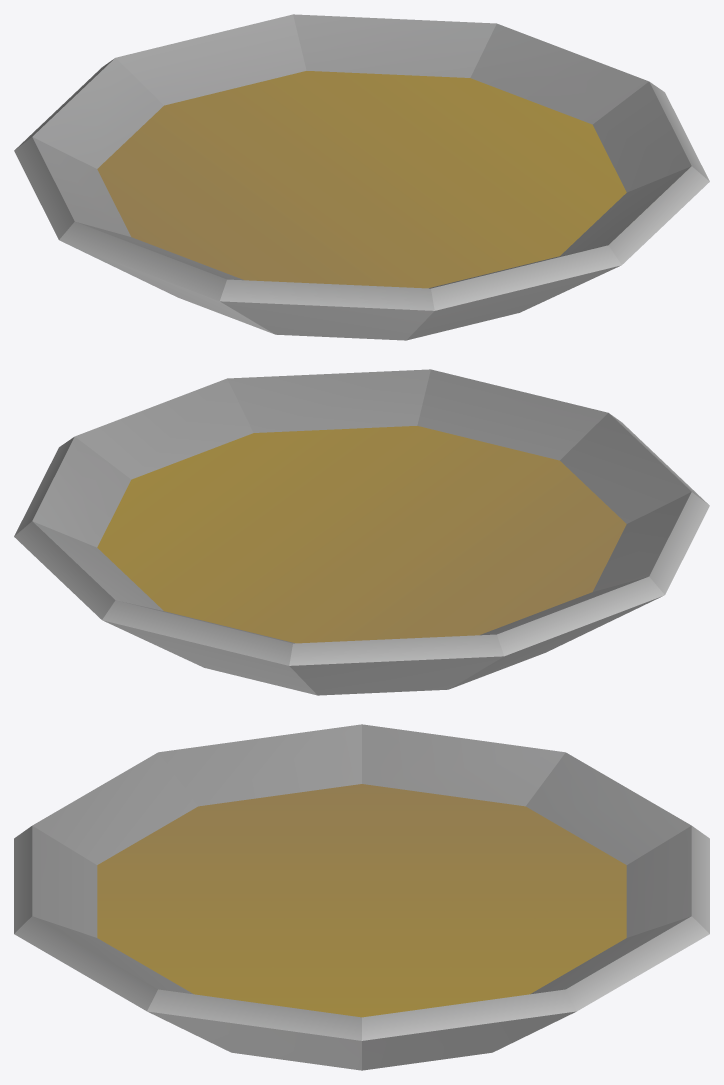
The model's file is platesoup.glb.
3 views of the same model, one above another, from view 1: azimuth 30°, elevation 25°; view 2: azimuth 150°, elevation 25°; view 3: azimuth 270°, elevation 25° (orthographic). The views are drawn at different scales.
Visible parts, largest first — view 1: PlateSoup_mesh1; view 2: PlateSoup_mesh1; view 3: PlateSoup_mesh1.
Part boxes in pixels (x1,y1,x2,y2): PlateSoup_mesh1: (14, 14, 709, 340); PlateSoup_mesh1: (14, 369, 709, 695); PlateSoup_mesh1: (14, 724, 709, 1070).
Size of the model in its own units: 0.3677 by 0.0587 by 0.3497.
1 material, 1 textured.
